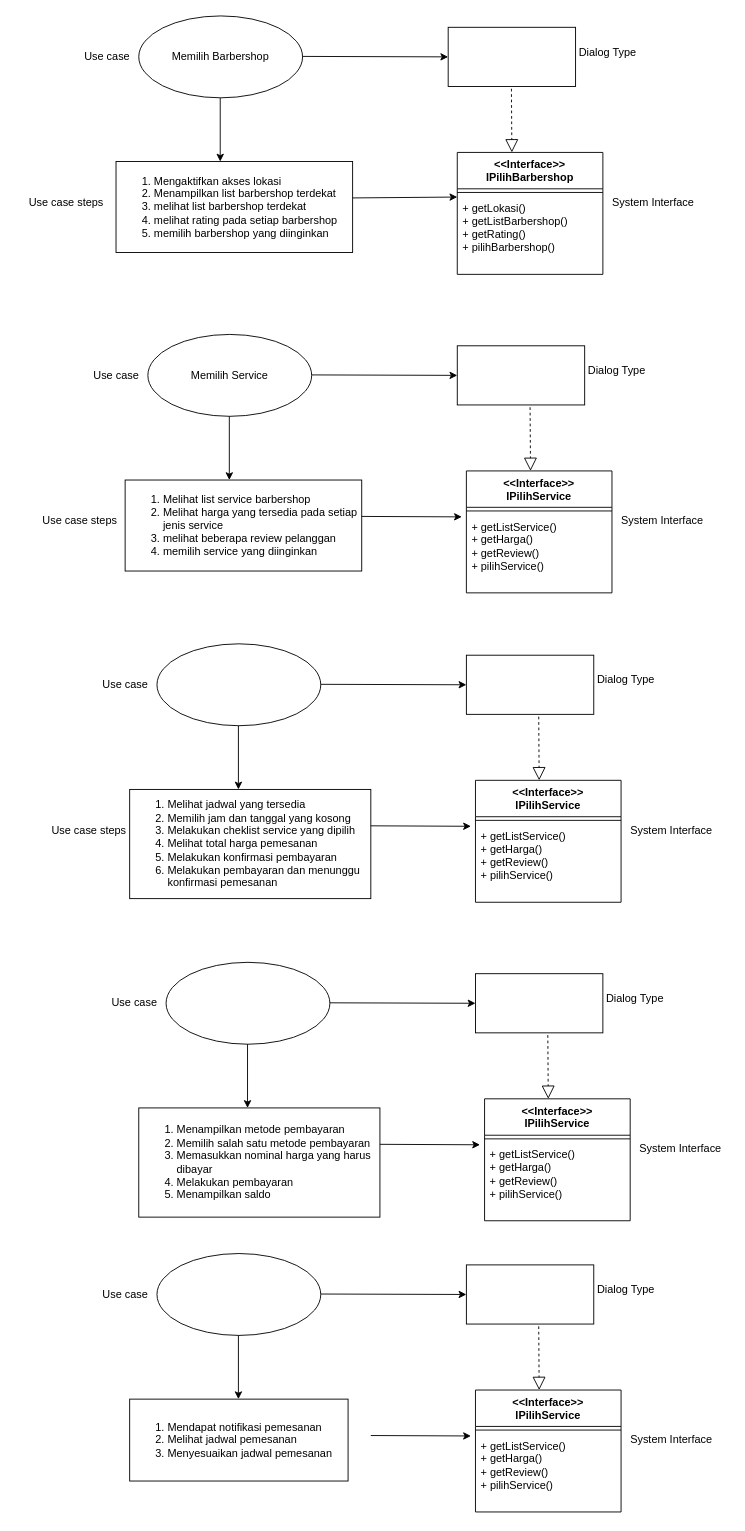
Some shapes in this 745 by 1531 pixel diagram are drawn without their labels. The shapes that lost their labels are listed below. From the top down, each one's centre as x and y in pixels, then its label:
At pixel 511 56: "Pilih Barbershop".
At pixel 520 375: "Pilih Service".
At pixel 238 684: "Melakukan Pemesanan".
At pixel 247 1002: "Melakukan Pembayaran".
At pixel 238 1294: "Menerima/menolak Pemesanan".
